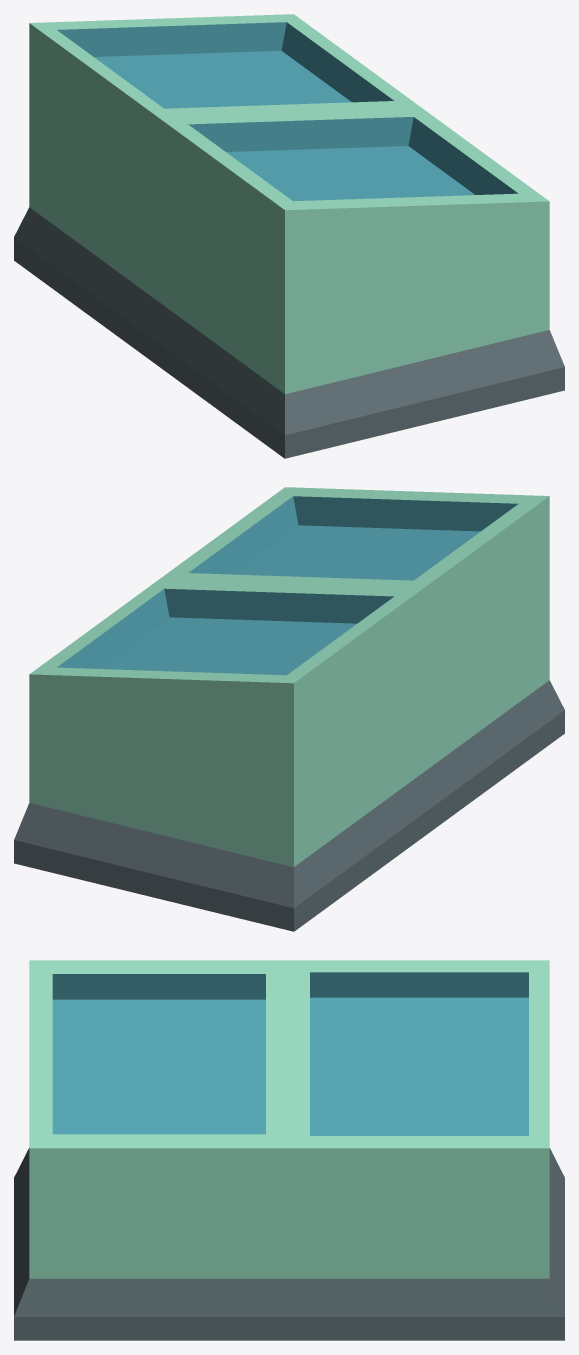
The model's file is frezeer.fbx.
The picture shows the model from 3 angles, top to bottom: view 1: azimuth 30°, elevation 25°; view 2: azimuth 150°, elevation 25°; view 3: azimuth 270°, elevation 25°; orthographic projection.
Visible parts, largest first — view 1: Kostka; view 2: Kostka; view 3: Kostka.
Part boxes in pixels (bbox=[...]): Kostka: bbox=[14, 14, 564, 458]; Kostka: bbox=[14, 487, 564, 931]; Kostka: bbox=[14, 960, 564, 1340].
Bounding box in the file's own units: 1711 × 1408 × 2866.
